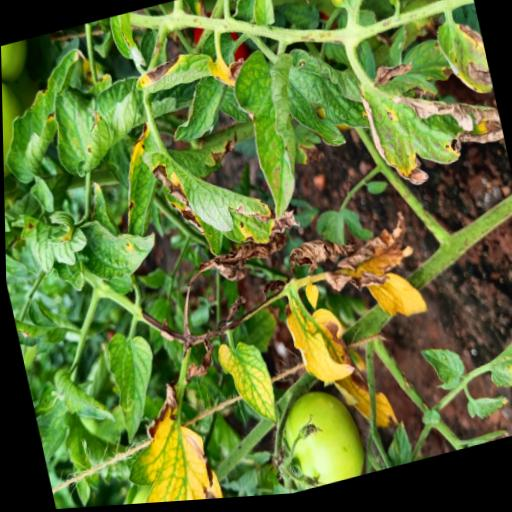Early Blight: (142, 118, 310, 284), (352, 41, 510, 207), (42, 52, 215, 183), (106, 373, 224, 507), (101, 119, 170, 236), (72, 207, 164, 289), (13, 200, 91, 281), (431, 21, 494, 114), (128, 43, 219, 104), (320, 0, 425, 17)
